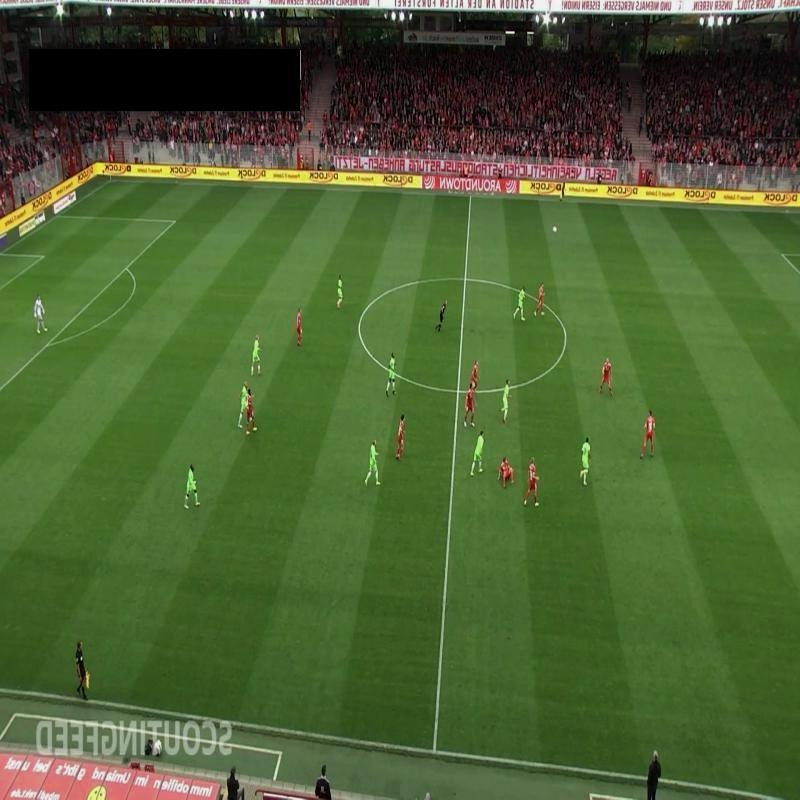1: (104, 174, 118, 188)
10: (119, 262, 134, 276)
11: (40, 339, 54, 353)
13: (463, 189, 477, 203)
14: (458, 272, 472, 286)
15: (452, 382, 466, 396)
16: (425, 740, 444, 762)
2: (50, 210, 64, 224)
7: (36, 249, 50, 262)
9: (774, 250, 792, 262), (168, 215, 182, 229)
c: (352, 314, 368, 334), (559, 332, 573, 345)
